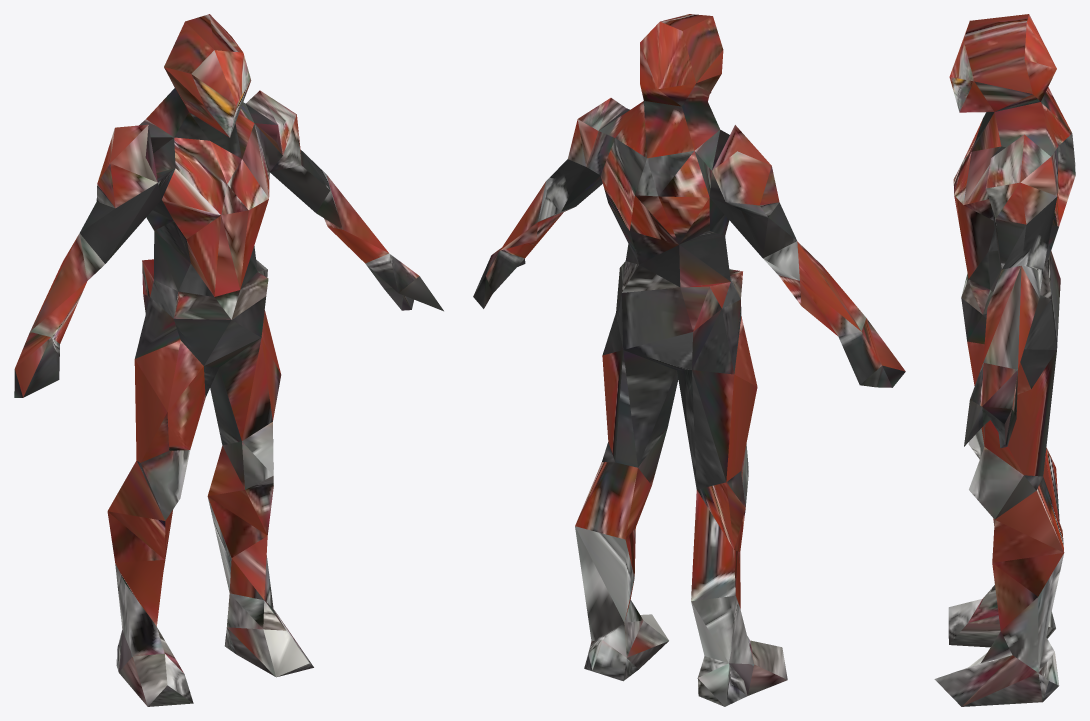
File: crimson_sentinel_lod2.glb
3 renders of one model, left to right at view 1: azimuth 30°, elevation 25°; view 2: azimuth 150°, elevation 25°; view 3: azimuth 270°, elevation 25°, orthographic.
Parts seen in each view (by area): view 1: Mesh_0; view 2: Mesh_0; view 3: Mesh_0.
Part boxes in pixels (left/top/right/bottom): Mesh_0: left=14, top=14, right=443, bottom=706; Mesh_0: left=473, top=14, right=905, bottom=706; Mesh_0: left=934, top=14, right=1075, bottom=706.
Bounding box in the file's own units: 1.27 × 1.88 × 0.3709.
1 material, 1 textured.
